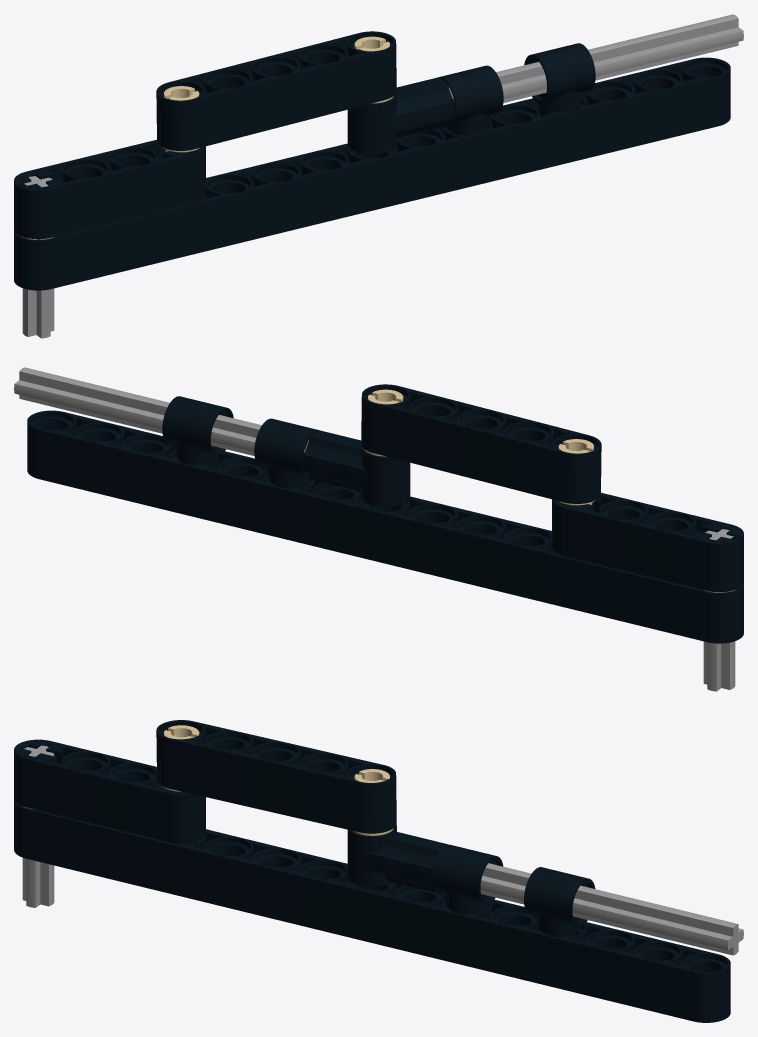
The model's file is linear_motion_1.glb.
3 views of the same model, one above another, from view 1: azimuth 30°, elevation 25°; view 2: azimuth 150°, elevation 25°; view 3: azimuth 330°, elevation 25° (orthographic).
Parts seen in each view (by area): view 1: 32278.dat, 32316.dat, 32449.dat.001, 44294.dat, 32013.dat, 32449.dat, 15100.dat.001, 15100.dat, 4519.dat; view 2: 32278.dat, 32316.dat, 32449.dat.001, 44294.dat, 32013.dat, 32449.dat, 15100.dat.001, 15100.dat, 4519.dat; view 3: 32278.dat, 32316.dat, 32449.dat.001, 44294.dat, 32449.dat, 32013.dat, 15100.dat.001, 15100.dat, 4519.dat, 3673.dat.
Boxes of the visible parts, box(x1,y1,x2,y2) form: 32278.dat: box(14, 57, 730, 290); 32316.dat: box(156, 31, 396, 150); 32449.dat.001: box(14, 139, 205, 215); 44294.dat: box(449, 14, 743, 102); 32013.dat: box(347, 77, 455, 153); 32449.dat: box(14, 171, 205, 239); 15100.dat.001: box(524, 43, 595, 111); 15100.dat: box(439, 65, 503, 135); 4519.dat: box(22, 176, 54, 338); 32278.dat: box(27, 410, 743, 643); 32316.dat: box(361, 384, 601, 503); 32449.dat.001: box(552, 492, 743, 567); 44294.dat: box(14, 367, 308, 455); 32013.dat: box(302, 430, 410, 506); 32449.dat: box(552, 524, 743, 592); 15100.dat.001: box(162, 396, 233, 464); 15100.dat: box(254, 418, 318, 488); 4519.dat: box(703, 529, 735, 691); 32278.dat: box(14, 799, 730, 1022); 32316.dat: box(156, 720, 396, 833); 32449.dat.001: box(14, 739, 205, 819); 44294.dat: box(480, 863, 743, 955); 32449.dat: box(14, 775, 205, 843); 32013.dat: box(347, 825, 447, 892); 15100.dat.001: box(524, 867, 595, 937); 15100.dat: box(432, 844, 503, 914); 4519.dat: box(22, 745, 54, 907); 3673.dat: box(353, 769, 393, 835).
Bounding box in the file's own units: 3.01 × 0.8376 × 0.178.
